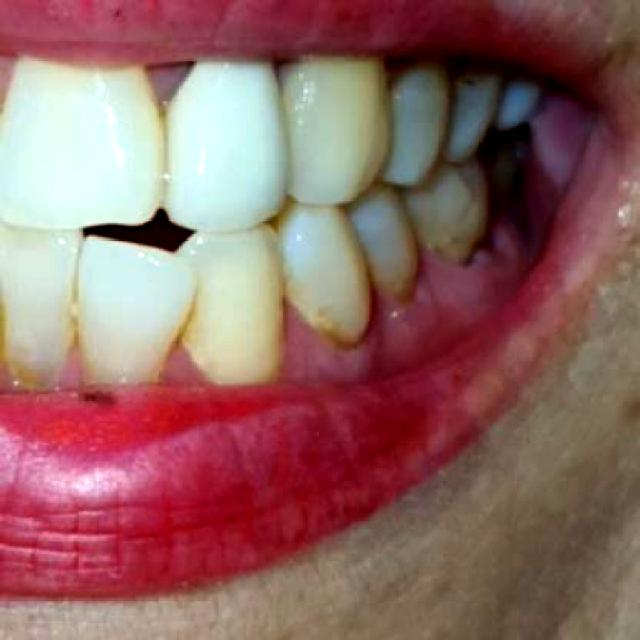Plaque: (387, 208, 526, 348), (159, 343, 212, 389), (455, 75, 480, 92)
